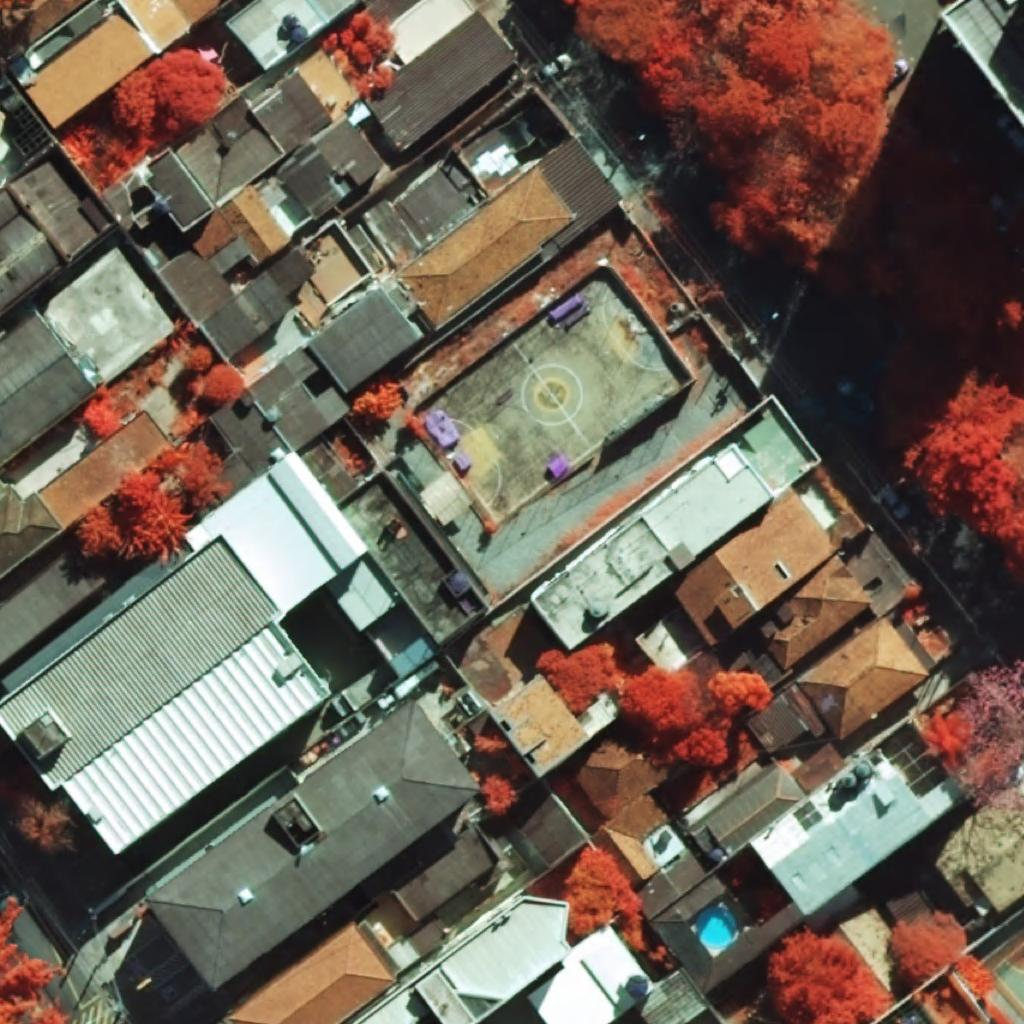pool: (697, 906, 738, 947)
